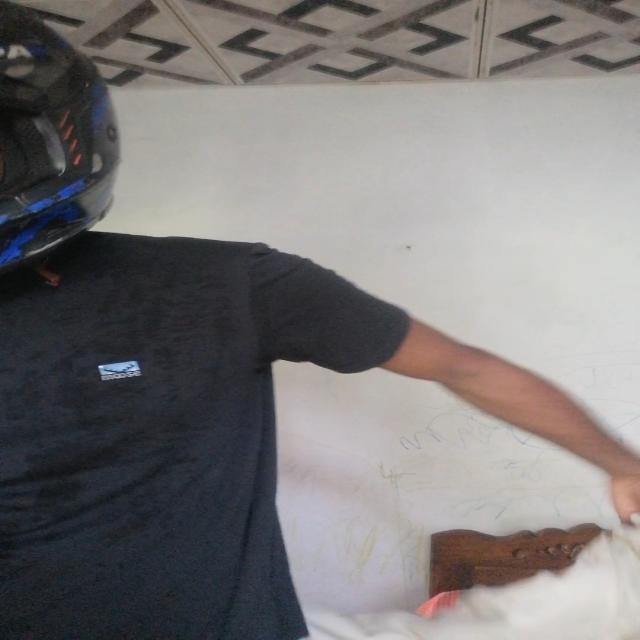Helmet_Wearer: (4, 8, 144, 288)
Person: (0, 3, 404, 639)
